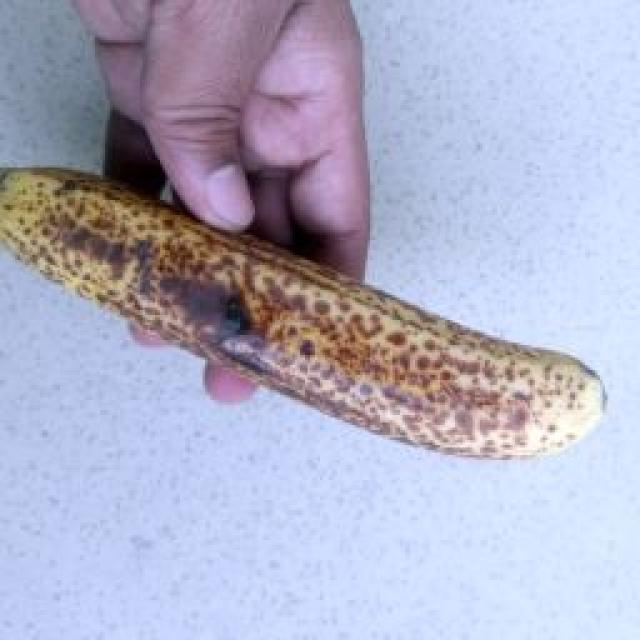banana: (11, 94, 515, 598)
